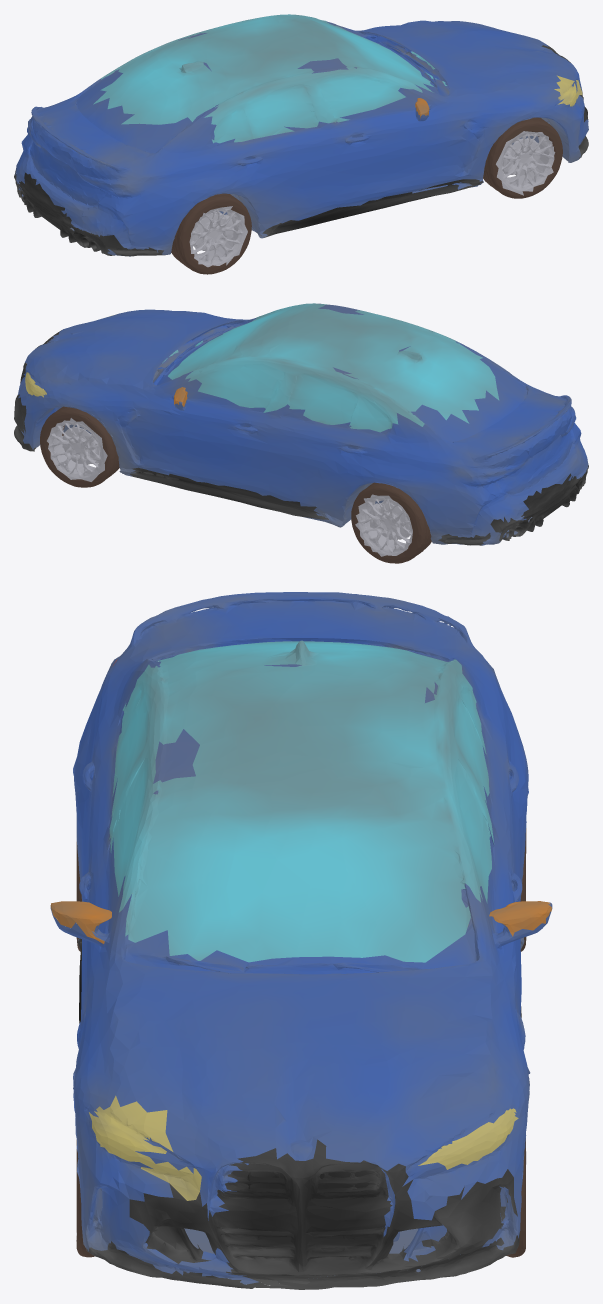
The model's file is syn-g80-meshy-semantic.glb.
3 renders of one model, top to bottom at view 1: azimuth 30°, elevation 25°; view 2: azimuth 150°, elevation 25°; view 3: azimuth 270°, elevation 25°, orthographic. The views are drawn at different scales.
Visible parts, largest first — view 1: BODY_PAINT, GLASS, WHEEL, TRIM, TIRE, HEADLIGHT; view 2: BODY_PAINT, GLASS, WHEEL, TRIM, TIRE, GRILLE; view 3: BODY_PAINT, GLASS, GRILLE, HEADLIGHT, TRIM, MIRROR, TIRE.
Part boxes in pixels (bbox=[...]): BODY_PAINT: bbox=[15, 20, 588, 256]; GLASS: bbox=[93, 14, 447, 143]; WHEEL: bbox=[189, 131, 555, 267]; TRIM: bbox=[14, 136, 588, 256]; TIRE: bbox=[171, 117, 562, 274]; HEADLIGHT: bbox=[554, 75, 582, 106]; BODY_PAINT: bbox=[18, 303, 588, 545]; GLASS: bbox=[162, 303, 499, 432]; WHEEL: bbox=[47, 418, 412, 556]; TRIM: bbox=[14, 425, 588, 545]; TIRE: bbox=[40, 406, 431, 563]; GRILLE: bbox=[14, 330, 61, 433]; BODY_PAINT: bbox=[50, 592, 552, 1284]; GLASS: bbox=[109, 640, 494, 962]; GRILLE: bbox=[129, 1139, 517, 1286]; HEADLIGHT: bbox=[89, 1095, 518, 1200]; TRIM: bbox=[77, 938, 521, 1289]; MIRROR: bbox=[50, 901, 551, 943]; TIRE: bbox=[76, 828, 526, 1257].
Bounding box in the file's own units: 4.79 × 1.45 × 2.
